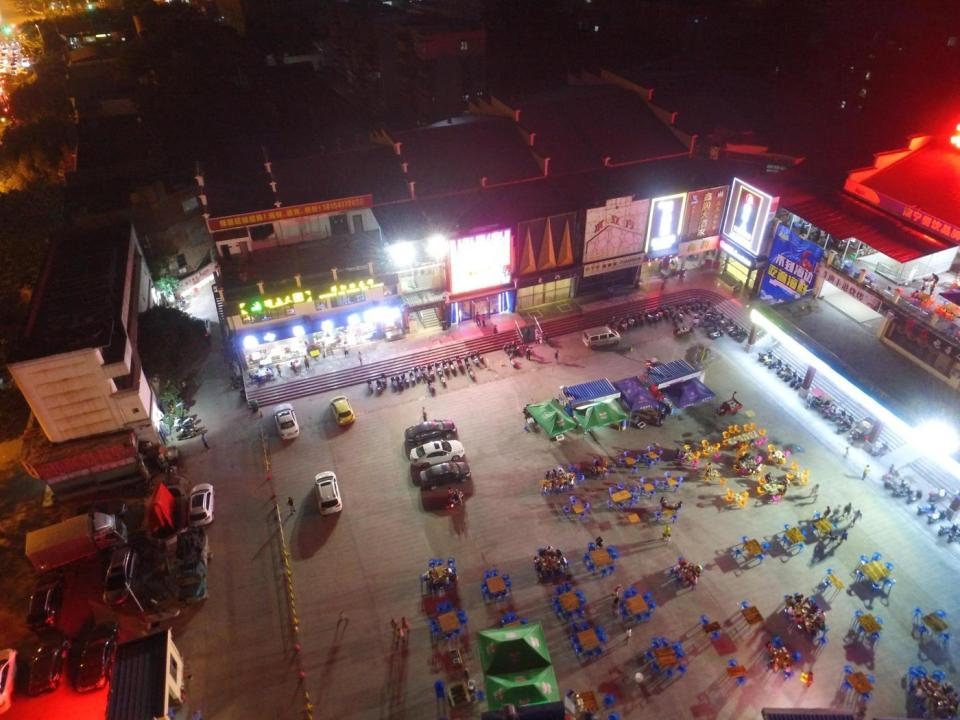car: (76, 621, 119, 694), (27, 635, 70, 697), (27, 568, 62, 631), (103, 549, 136, 608), (61, 498, 127, 524), (409, 439, 464, 468), (419, 461, 470, 490), (404, 419, 457, 445), (313, 471, 342, 515), (188, 483, 214, 528), (0, 648, 16, 712), (274, 403, 300, 440), (330, 396, 354, 425)
van: (23, 511, 126, 572), (177, 530, 212, 606), (582, 325, 618, 346)
